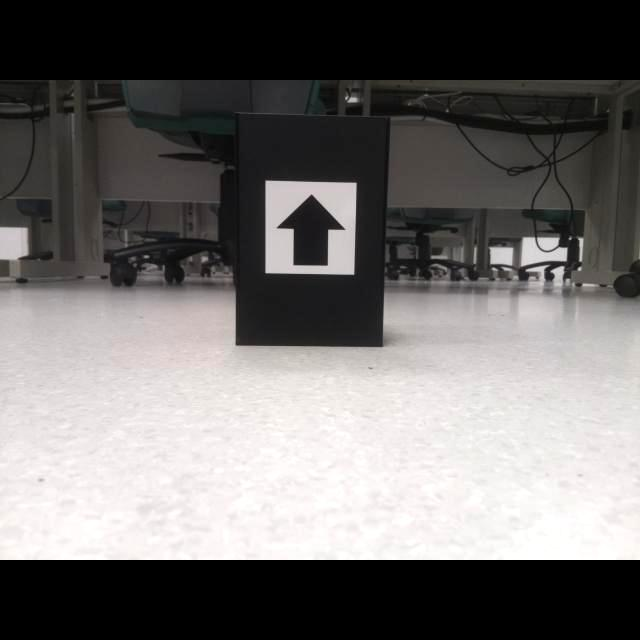UP: (275, 192, 349, 268)
